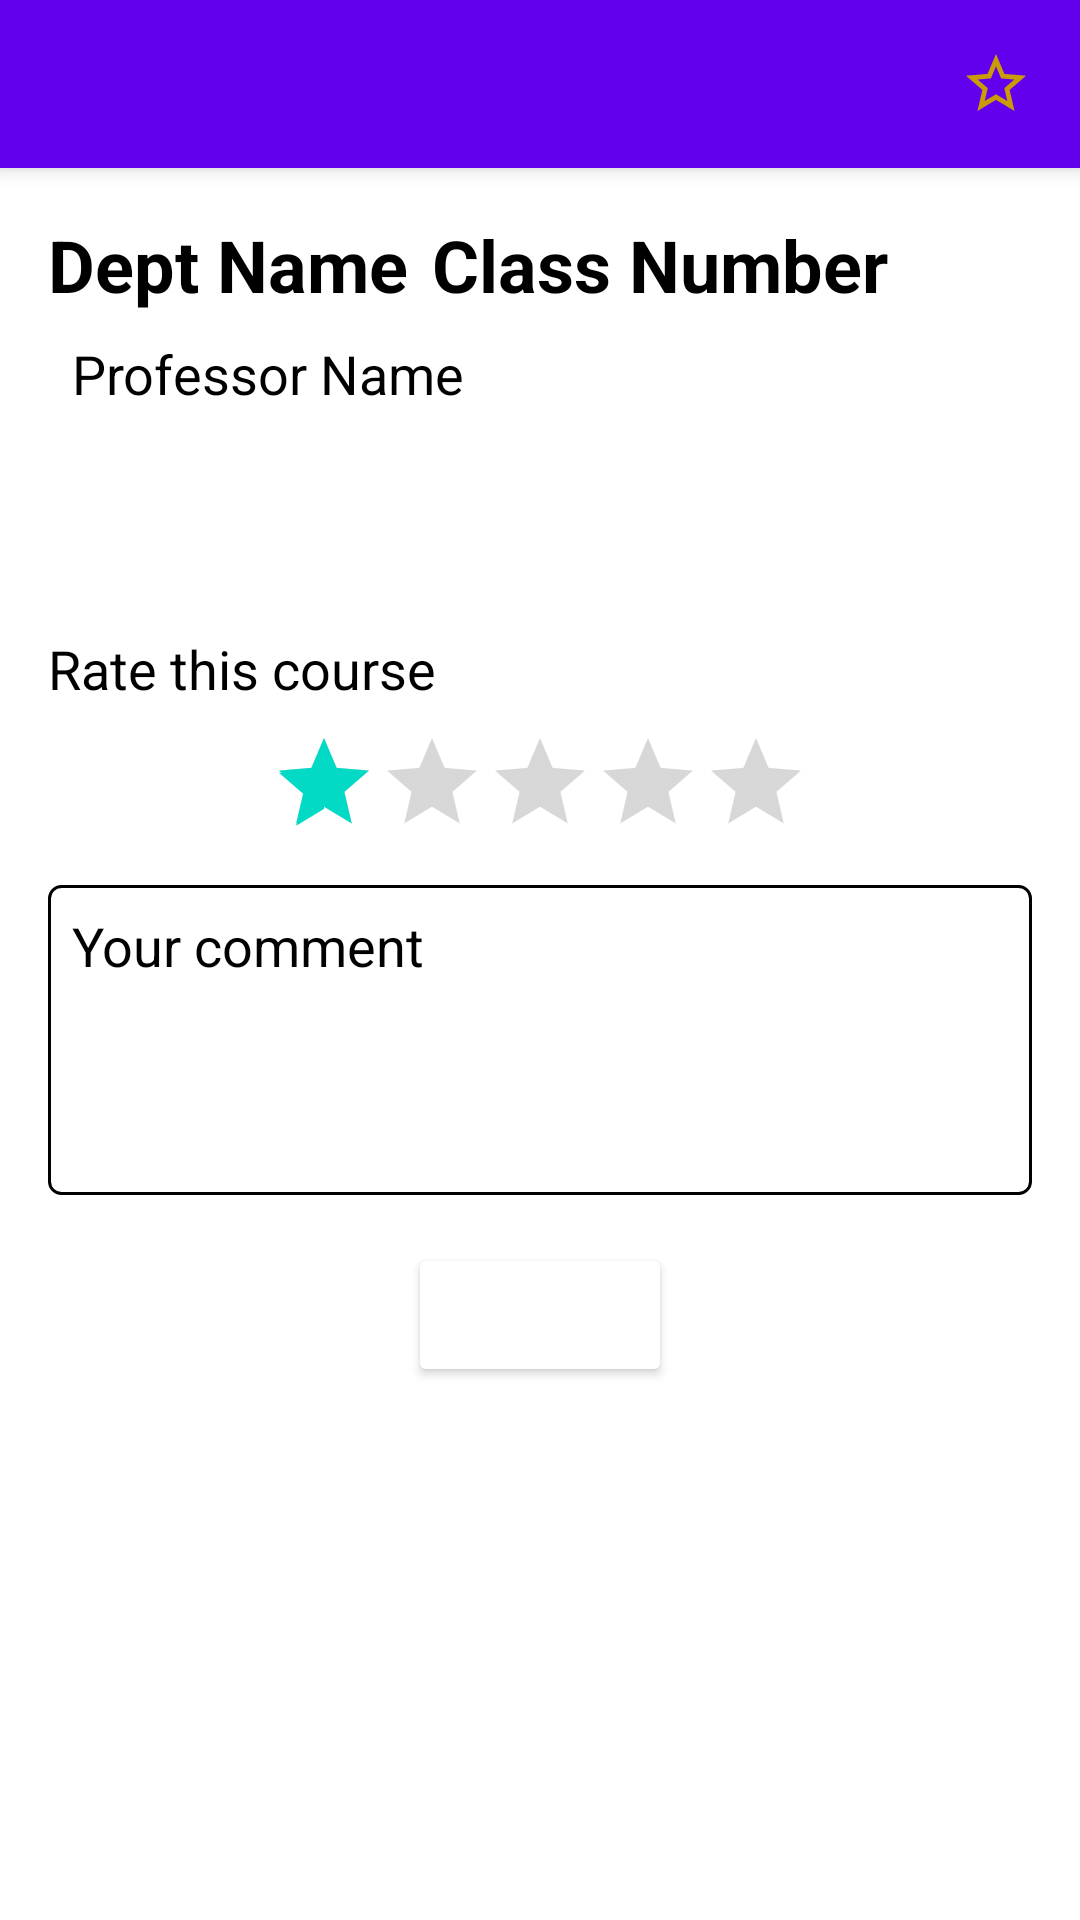

Named icons in this screenshot (1080*1920) and their centers, point (x, y):
star border: point (996, 82)
